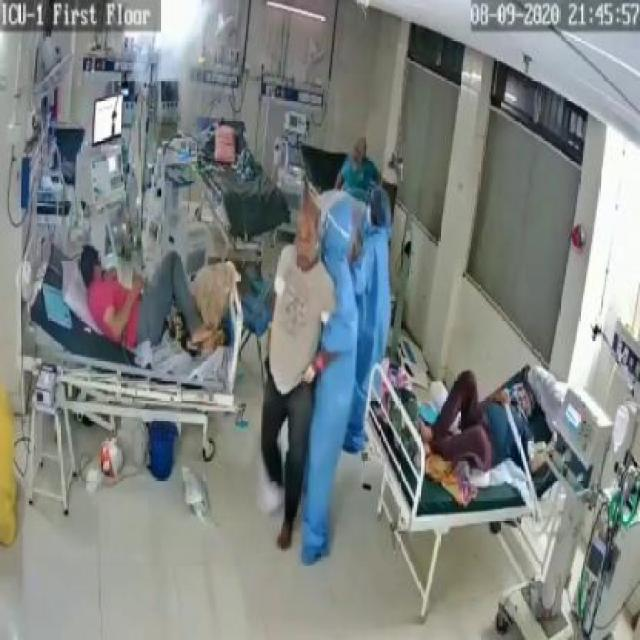smoke: (160, 8, 202, 118)
